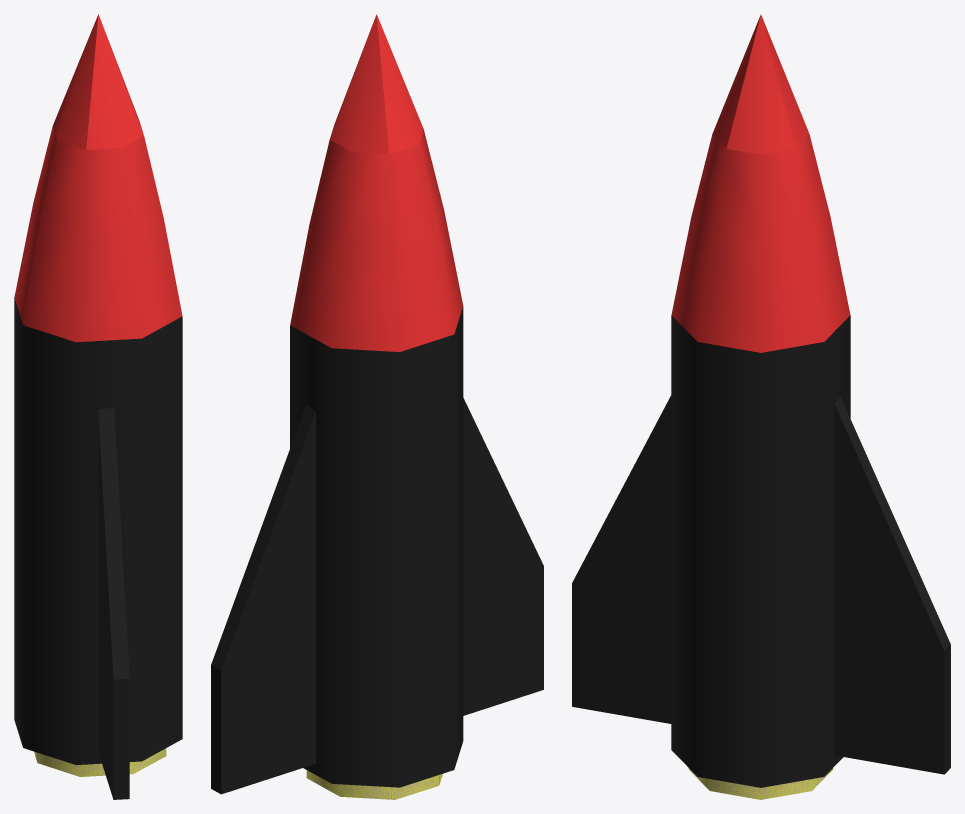
The model's file is rocket.dae.
The picture shows the model from 3 angles, left to right: view 1: azimuth 30°, elevation 25°; view 2: azimuth 150°, elevation 25°; view 3: azimuth 270°, elevation 25°; orthographic projection. The views are drawn at different scales.
Parts seen in each view (by area): view 1: group_0 (×2), group_2, group_3; view 2: group_0 (×2), group_1, group_2, group_3; view 3: group_0 (×2), group_1, group_2, group_3.
Part boxes in pixels (x1,y1,x2,y2): group_0 (×2): (14, 14, 182, 764); group_2: (98, 408, 129, 799); group_3: (34, 748, 166, 776); group_0 (×2): (290, 14, 463, 787); group_1: (211, 405, 315, 794); group_2: (463, 398, 543, 715); group_3: (306, 770, 442, 799); group_0 (×2): (671, 14, 850, 787); group_1: (834, 397, 950, 774); group_2: (572, 395, 671, 723); group_3: (688, 768, 833, 799).
Bounding box in the file's own units: 622 × 1316 × 2896.
